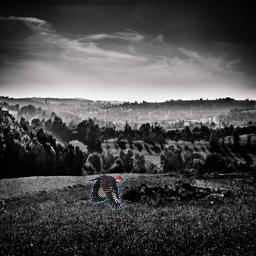Woodpecker: (87, 175, 127, 210)
